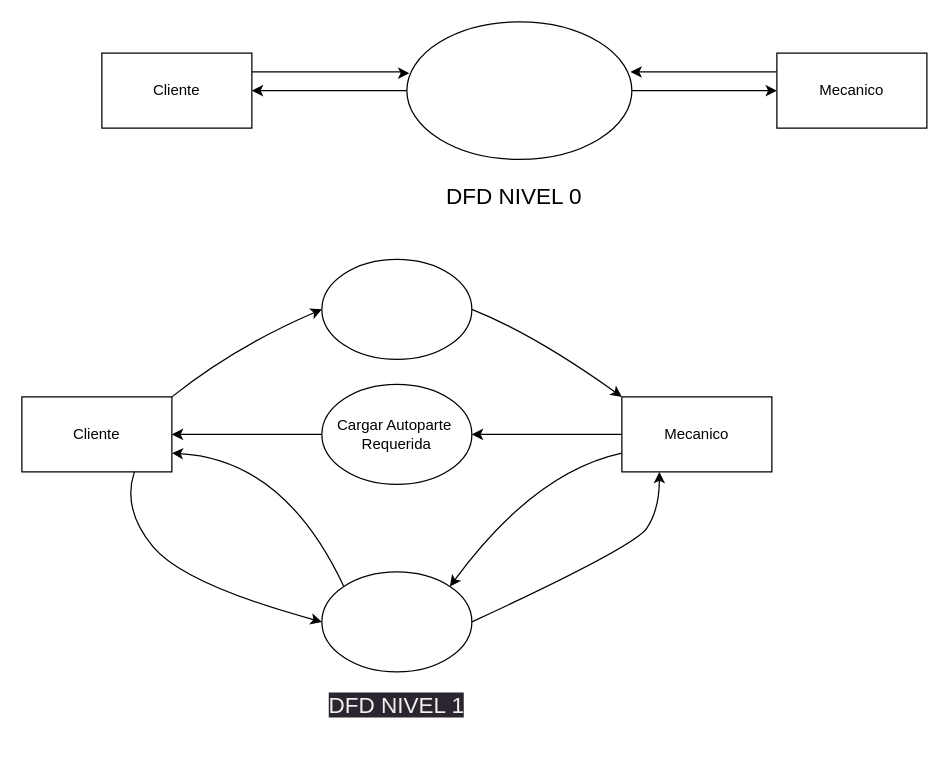
Image size: 949x769. Some labels were removed from this diagram. The shapes that lost their labels are listed below. From the top down, each one's centre as x and y in pixels, then its label:
At point 519,90: "Gestion Fabrica de Autopartes".
At point 396,308: "Ingresar auto".
At point 396,621: "Abonar".
